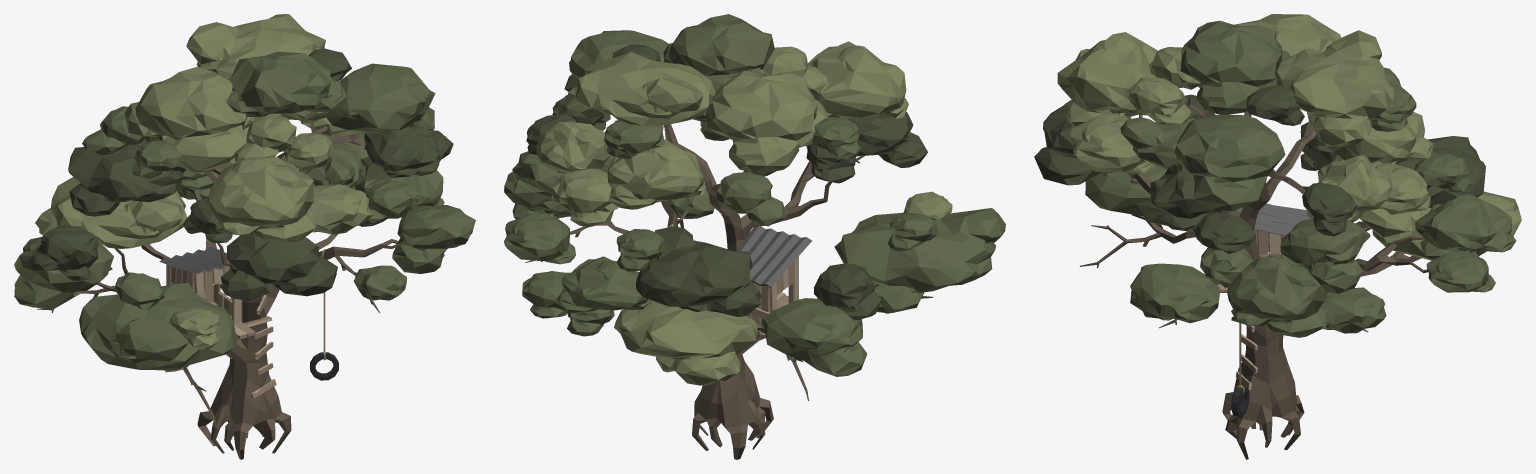
The model's file is SM_Env_Tree_Large_01.fbx.
The picture shows the model from 3 angles, left to right: view 1: azimuth 30°, elevation 25°; view 2: azimuth 150°, elevation 25°; view 3: azimuth 270°, elevation 25°; orthographic projection. The views are drawn at different scales.
Visible parts, largest first — view 1: SM_Env_Tree_Leaves_01, SM_Env_Tree_Large_01, SM_Env_Tree_House_01, SM_Env_Tree_Swing_01; view 2: SM_Env_Tree_Leaves_01, SM_Env_Tree_Large_01, SM_Env_Tree_House_01; view 3: SM_Env_Tree_Leaves_01, SM_Env_Tree_Large_01, SM_Env_Tree_House_01, SM_Env_Tree_Swing_01.
Boxes of the visible parts, <box> form: SM_Env_Tree_Leaves_01: <box>14,14,475,370</box>; SM_Env_Tree_Large_01: <box>36,120,403,459</box>; SM_Env_Tree_House_01: <box>159,246,276,398</box>; SM_Env_Tree_Swing_01: <box>310,292,338,380</box>; SM_Env_Tree_Leaves_01: <box>504,14,1005,385</box>; SM_Env_Tree_Large_01: <box>525,124,933,459</box>; SM_Env_Tree_House_01: <box>736,225,812,357</box>; SM_Env_Tree_Leaves_01: <box>1034,14,1521,337</box>; SM_Env_Tree_Large_01: <box>1079,97,1427,459</box>; SM_Env_Tree_House_01: <box>1217,203,1310,389</box>; SM_Env_Tree_Swing_01: <box>1231,323,1249,416</box>.
Size of the model in its own units: 1222 by 1162 by 1198.
